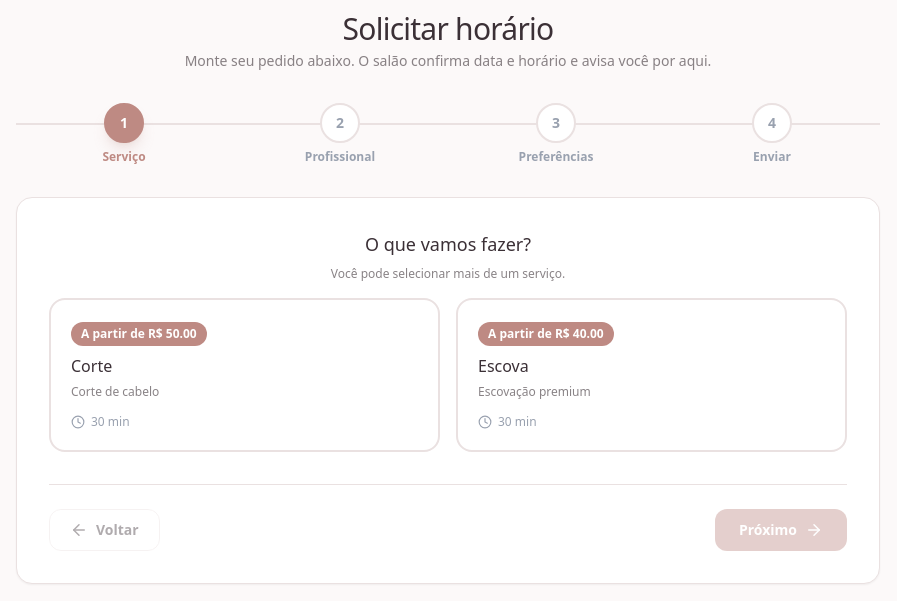
Test: PublicAppointment Wizard Integration › should deselect a service when clicked again
Click the heading "Corte".
click(92, 366)  # box [71,355,112,377]
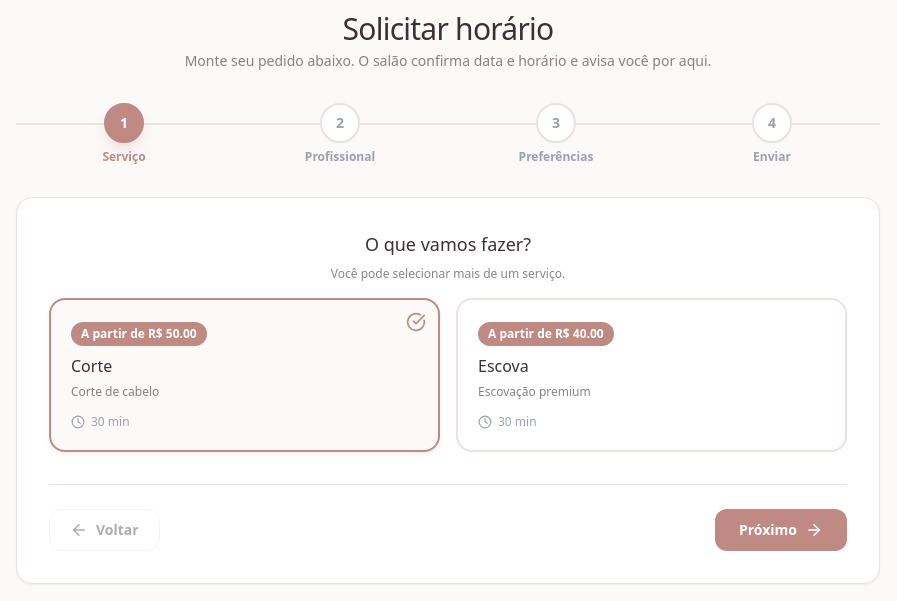
Click the heading "Corte".
click(92, 366)  # box [71,355,112,377]
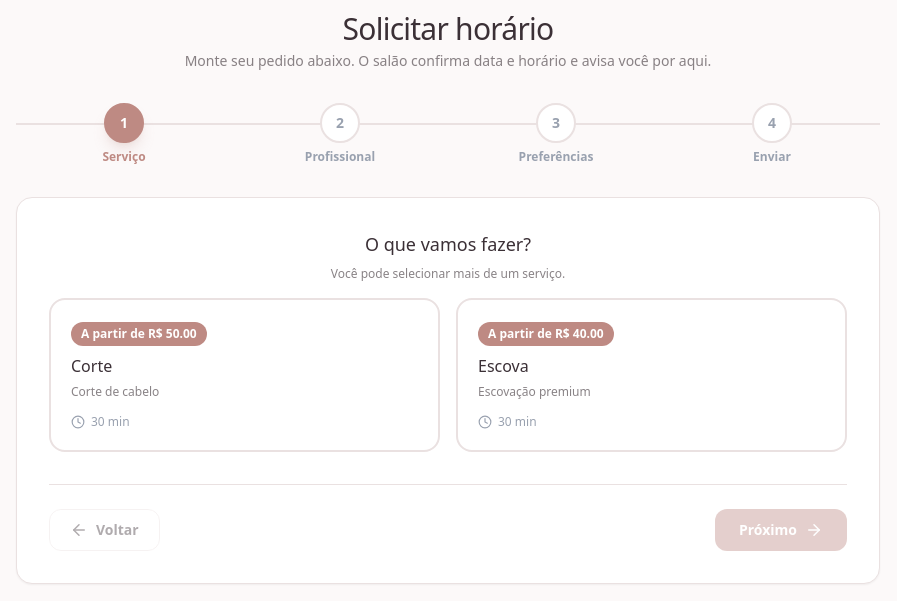
expect the button "Próximo" is disabled: met, box [715,508,847,550]
